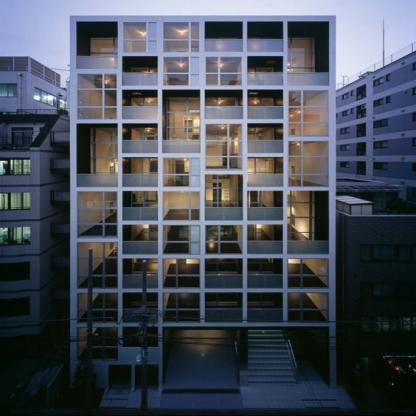Balcony: (288, 240, 328, 254), (77, 56, 118, 69), (205, 106, 243, 120), (205, 275, 243, 289), (247, 140, 283, 154), (247, 240, 283, 254), (247, 275, 283, 289), (247, 309, 283, 323), (122, 309, 158, 323), (247, 72, 283, 86), (122, 72, 158, 86), (122, 275, 158, 289), (122, 207, 158, 221), (205, 39, 243, 52), (205, 309, 243, 322), (77, 174, 118, 186), (247, 106, 283, 119), (247, 39, 283, 52), (163, 140, 199, 153), (122, 106, 158, 119), (122, 140, 158, 153), (122, 174, 158, 187), (122, 241, 158, 254), (205, 208, 243, 220), (247, 174, 284, 186), (247, 208, 283, 220)
Building Outline: (70, 16, 336, 392)
Door: (248, 326, 329, 387), (162, 326, 240, 387), (135, 365, 159, 391), (109, 365, 132, 391)
Facade: (70, 16, 336, 392)
Floor Slab: (70, 323, 336, 326), (117, 86, 336, 89), (118, 255, 336, 258), (70, 290, 336, 292), (71, 187, 204, 191), (117, 221, 287, 224), (118, 53, 288, 56), (244, 187, 337, 191), (71, 119, 161, 123), (200, 119, 288, 123), (118, 154, 205, 157), (71, 70, 122, 74), (283, 137, 336, 140), (244, 154, 289, 157)
Glass Wall: (288, 90, 329, 137), (288, 140, 329, 187), (77, 191, 117, 239), (77, 242, 117, 290), (166, 97, 200, 153), (78, 74, 118, 120), (91, 127, 122, 185), (205, 124, 243, 171), (287, 191, 316, 244), (77, 328, 118, 361), (205, 175, 239, 214), (288, 38, 315, 85), (288, 259, 329, 289), (77, 293, 118, 323), (288, 293, 328, 323), (162, 259, 201, 289), (162, 191, 201, 221), (162, 293, 201, 323), (162, 225, 201, 254), (162, 158, 201, 187), (163, 22, 200, 52), (205, 225, 243, 254), (206, 57, 243, 86), (163, 57, 200, 86), (123, 22, 158, 52), (90, 38, 118, 69), (205, 97, 237, 121), (205, 250, 237, 274), (205, 283, 237, 307), (131, 158, 160, 184), (131, 128, 160, 154), (244, 283, 275, 307), (244, 67, 275, 91), (244, 128, 275, 152), (244, 158, 275, 182), (244, 190, 275, 214), (244, 223, 275, 247), (244, 250, 275, 274), (131, 189, 162, 213), (131, 283, 162, 307), (131, 250, 162, 274), (131, 220, 162, 244), (244, 97, 275, 121), (205, 38, 238, 60), (244, 38, 275, 61), (131, 97, 160, 119), (131, 68, 160, 88)
Window: (287, 191, 329, 254), (288, 22, 329, 85), (77, 124, 117, 187), (162, 90, 200, 153), (77, 22, 118, 70), (205, 175, 243, 221), (247, 21, 283, 53), (205, 22, 243, 52), (205, 90, 243, 120), (205, 259, 243, 289), (122, 292, 158, 323), (205, 293, 243, 322), (247, 56, 283, 86), (247, 124, 283, 154), (247, 157, 283, 187), (247, 258, 283, 288), (247, 90, 283, 120), (122, 56, 158, 86), (122, 123, 158, 153), (122, 157, 158, 187), (122, 191, 158, 221), (122, 259, 158, 289), (247, 191, 283, 220), (247, 225, 283, 254), (247, 293, 283, 322), (122, 90, 158, 119), (122, 225, 158, 254), (122, 327, 158, 347)
